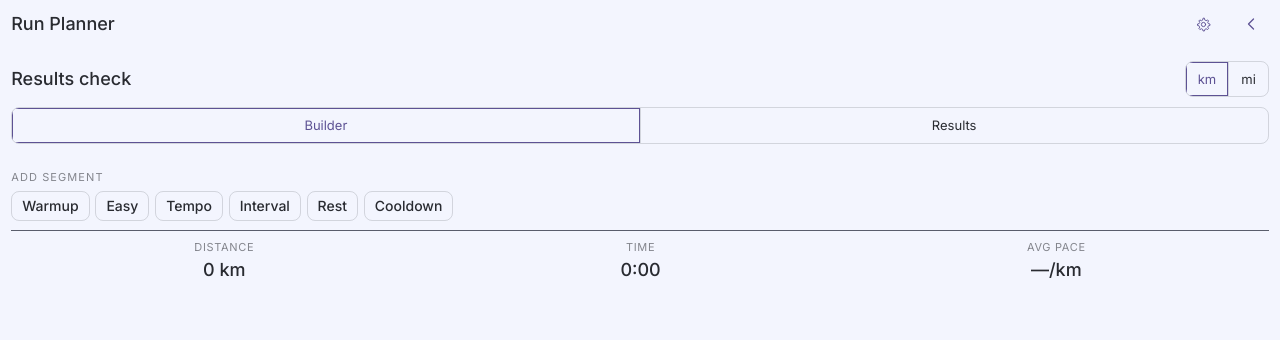
Test: PlanScreen › switching to the Results tab shows the plan summary card
The image size is (1280, 340).
Click the radio button "Results". click: x=954, y=126
box: [640,108,1268,143]
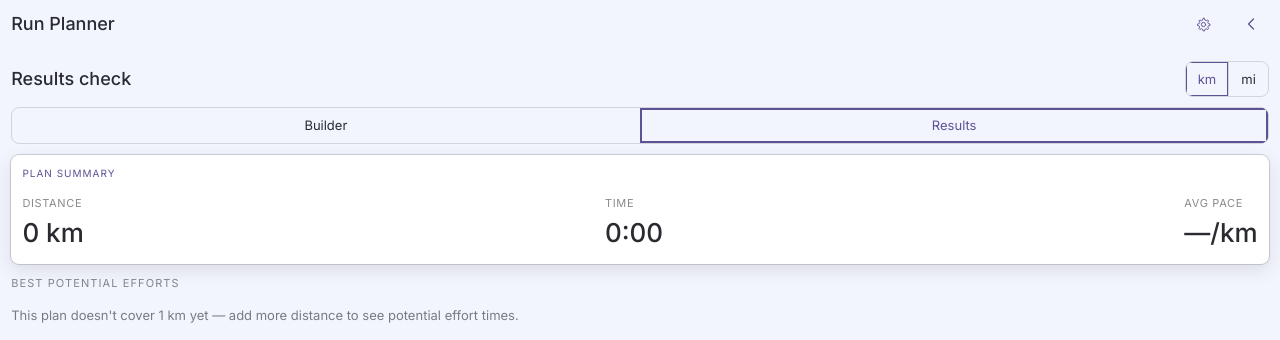
Expected: the text "Plan summary" is shown, [22,167,116,179]
